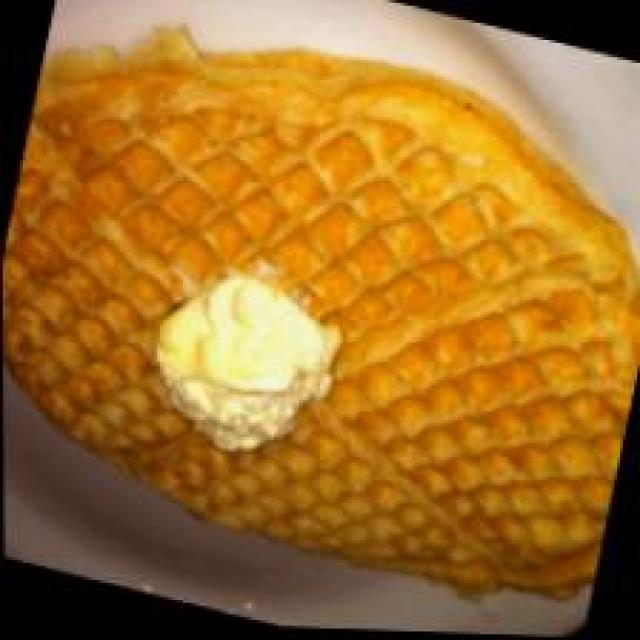Waffles: (0, 0, 640, 637)
